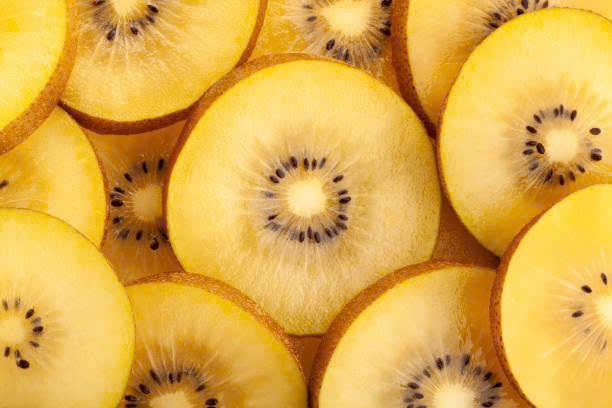kiwi: (161, 54, 455, 301), (437, 8, 612, 240), (482, 181, 612, 408), (303, 258, 491, 408), (1, 202, 136, 408), (81, 1, 270, 136), (133, 285, 306, 408)
